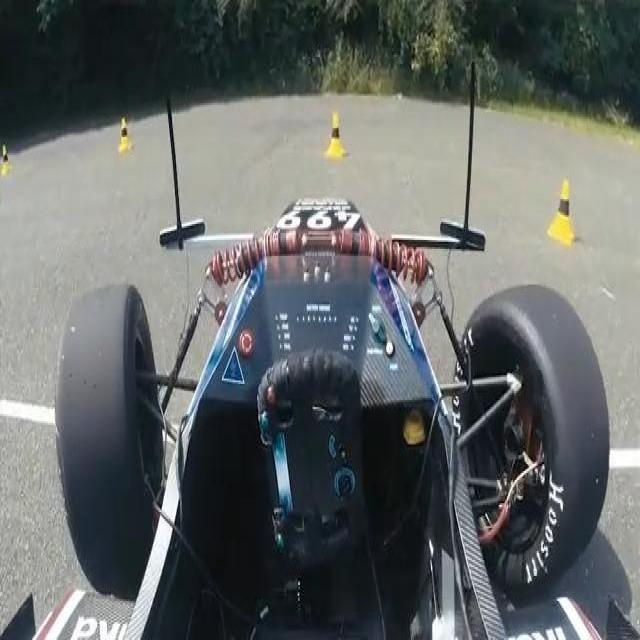yellow_cone: (549, 178, 576, 239), (325, 112, 347, 157), (118, 119, 135, 154), (1, 142, 14, 175)
